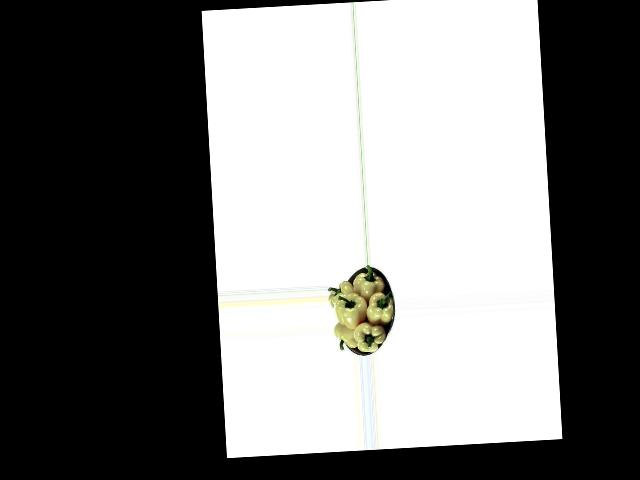bell_pepper: (327, 277, 357, 308)
